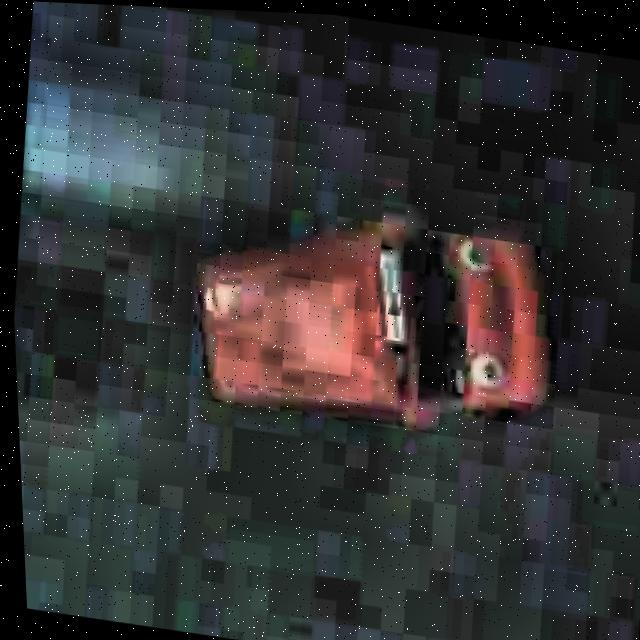bus: (163, 181, 578, 468)
